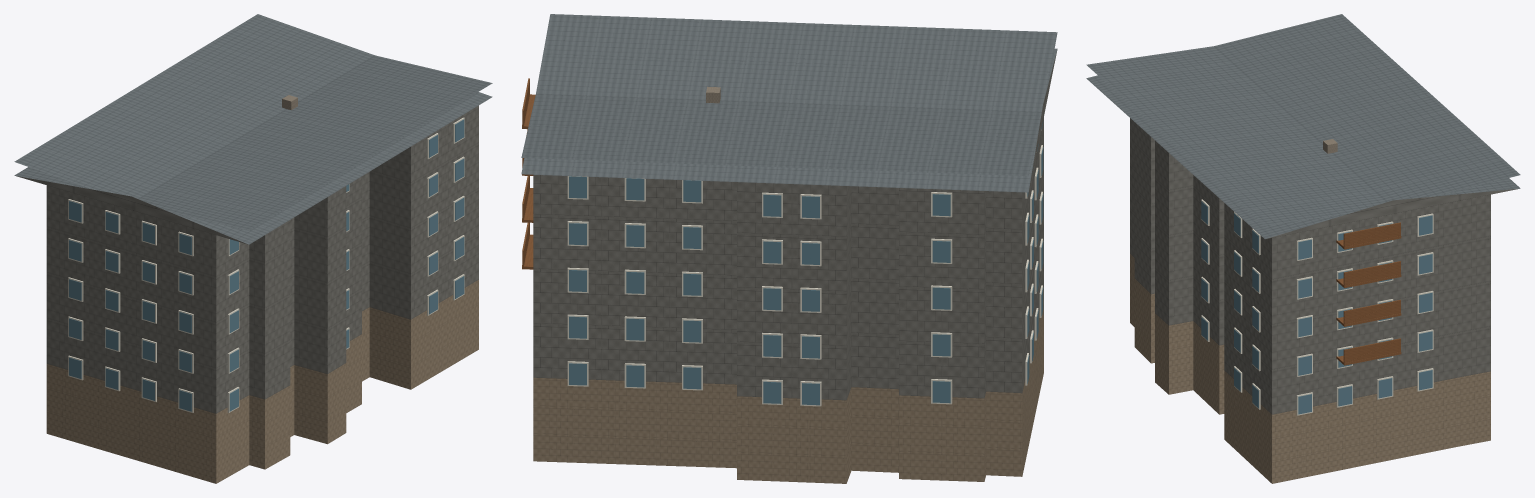
The model's file is core_0072.gltf.
3 renders of one model, left to right at view 1: azimuth 30°, elevation 25°; view 2: azimuth 150°, elevation 25°; view 3: azimuth 270°, elevation 25°, orthographic. The views are drawn at different scales.
Parts seen in each view (by area): view 1: core_0072; view 2: core_0072; view 3: core_0072.
Part boxes in pixels (left/top/right/bottom): core_0072: left=14, top=14, right=492, bottom=483; core_0072: left=521, top=14, right=1057, bottom=483; core_0072: left=1086, top=14, right=1520, bottom=483.
Bounding box in the file's own units: 33.5 × 19.55 × 29.06.
7 materials, 7 textured.
